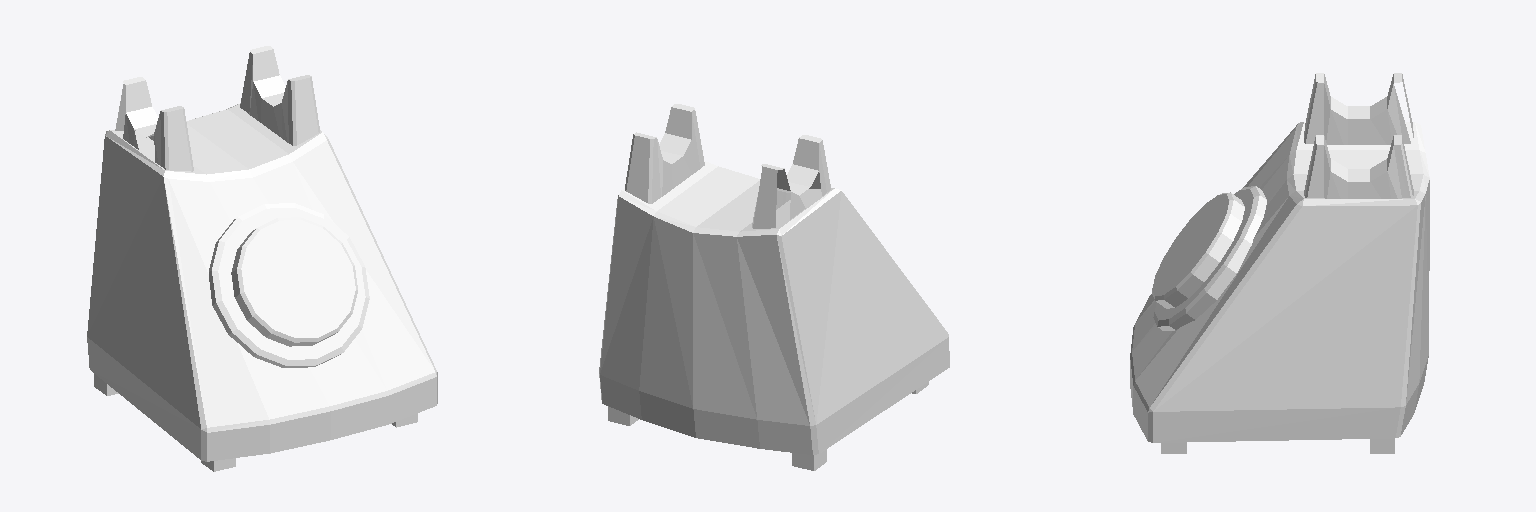
3 views of the same model, side by side, from view 1: azimuth 30°, elevation 25°; view 2: azimuth 150°, elevation 25°; view 3: azimuth 270°, elevation 25° (orthographic).
Visible parts, largest first — view 1: Phone.002; view 2: Phone.002; view 3: Phone.002.
Part boxes in pixels (left/top/right/bottom): Phone.002: left=87, top=46, right=437, bottom=471; Phone.002: left=599, top=104, right=949, bottom=470; Phone.002: left=1130, top=73, right=1429, bottom=453.
Size of the model in its own units: 7.18 by 8.59 by 7.89.